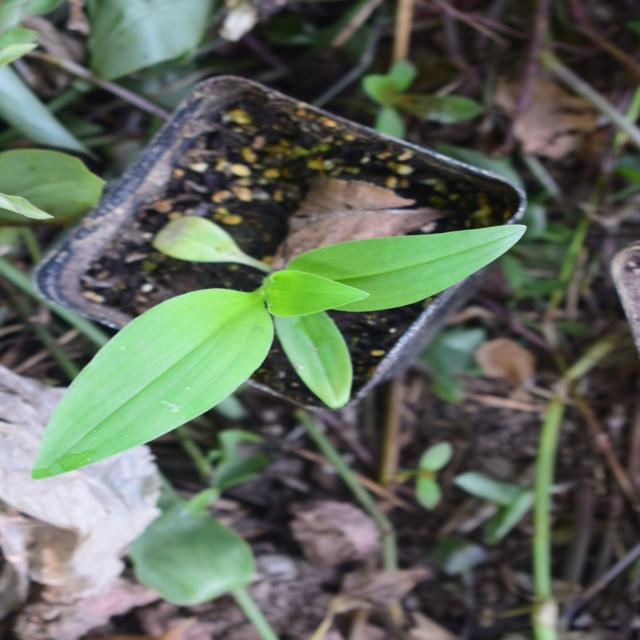Common Dayflower: (158, 24, 432, 534)
